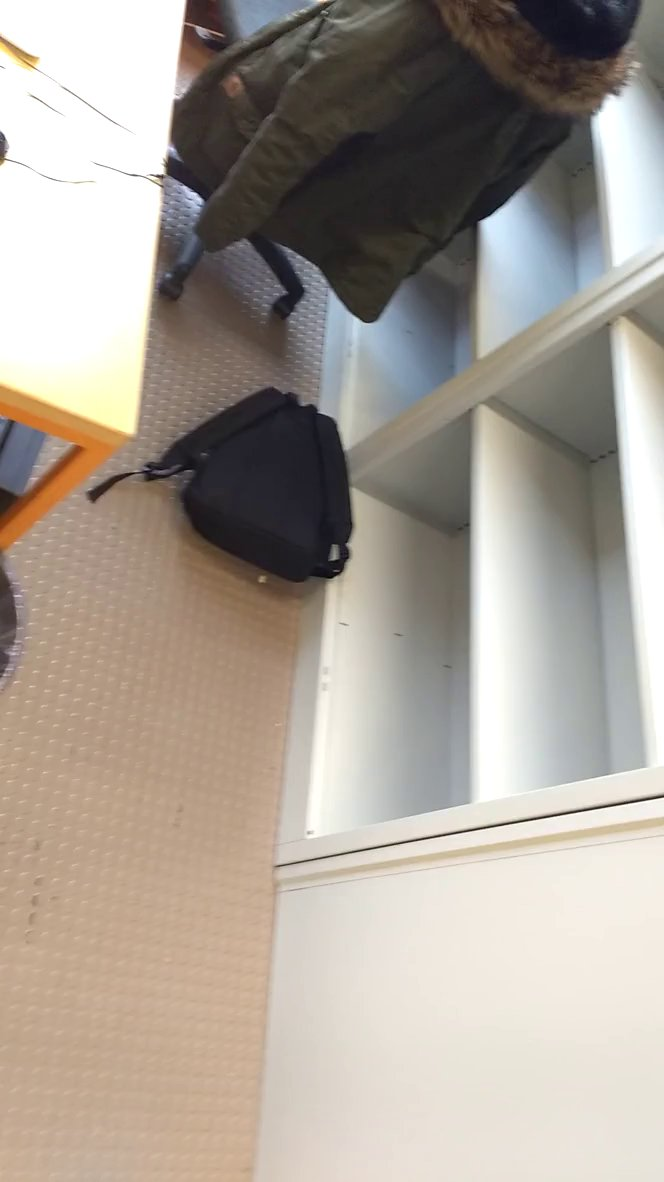bag: (116, 379, 366, 597)
